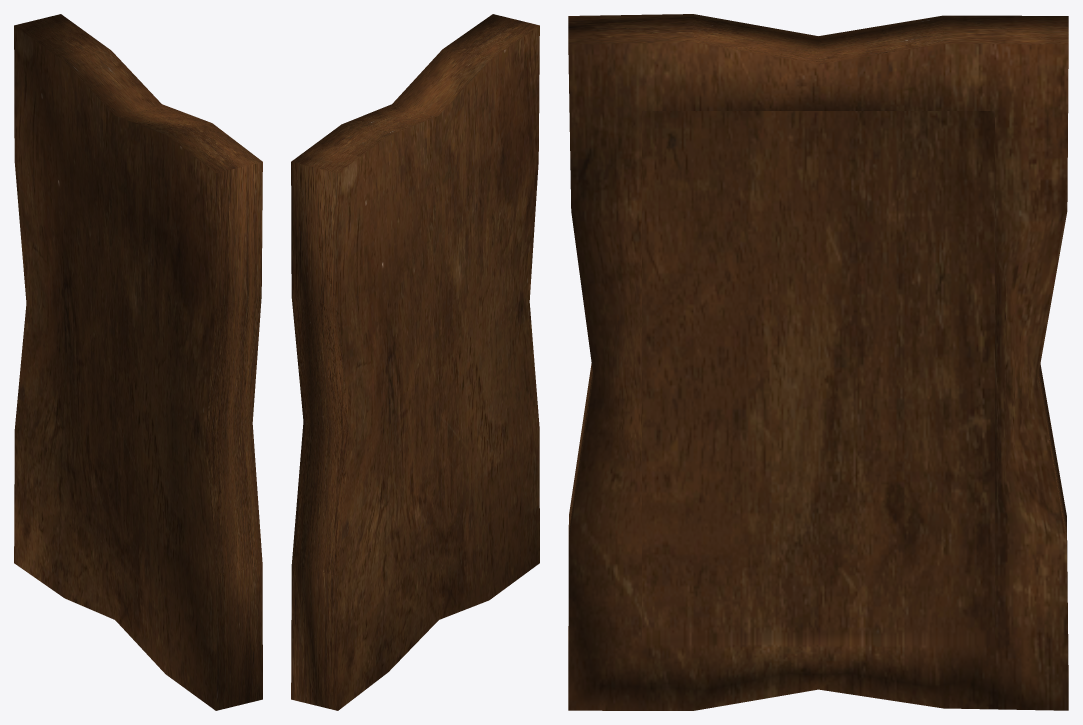
Rendered from paintingDone.glb.
3 renders of one model, left to right at view 1: azimuth 30°, elevation 25°; view 2: azimuth 150°, elevation 25°; view 3: azimuth 270°, elevation 25°, orthographic. The views are drawn at different scales.
Visible parts, largest first — view 1: fixed2; view 2: fixed2; view 3: fixed2.
Boxes of the visible parts, box(x1,y1,x2,y2) form: fixed2: box(14, 14, 262, 710); fixed2: box(291, 14, 539, 710); fixed2: box(568, 14, 1068, 710).
Size of the model in its own units: 0.1827 by 2.01 by 1.36.
Materials: 1 (1 with a texture image).
